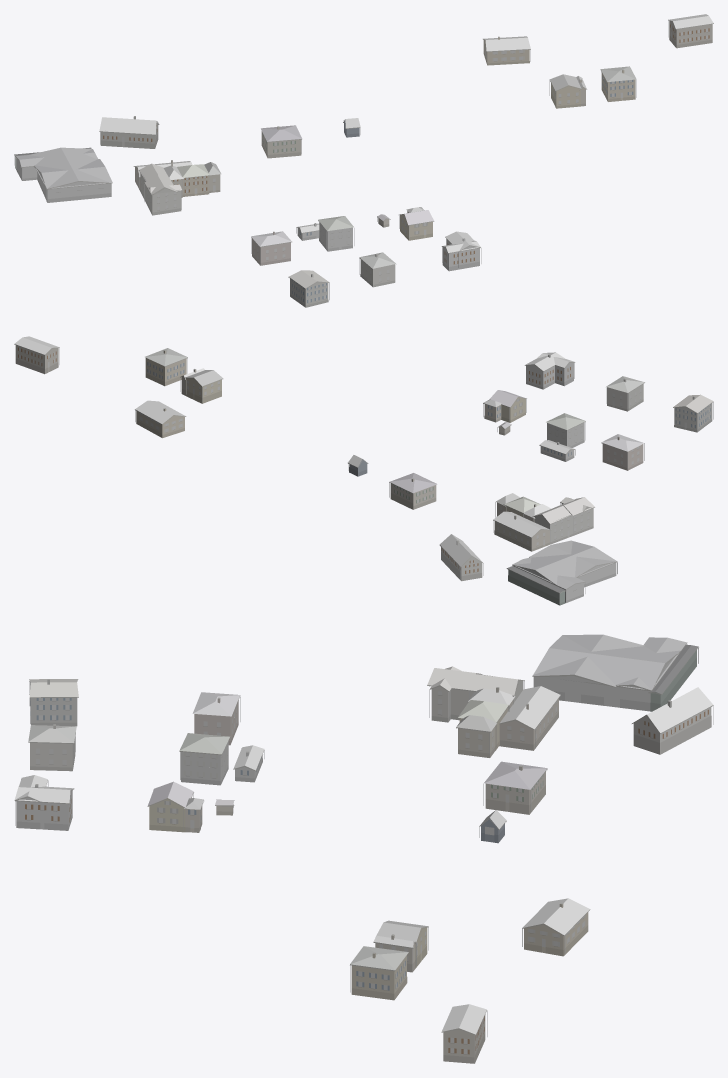
3 views of the same model, one above another, from view 1: azimuth 30°, elevation 25°; view 2: azimuth 150°, elevation 25°; view 3: azimuth 270°, elevation 25° (orthographic). The views are drawn at different scales.
Parts seen in each view (by area): view 1: bld; view 2: bld; view 3: bld.
Part boxes in pixels (box(x1,y1,x2,y2)): bld: box(14, 14, 713, 307); bld: box(14, 336, 713, 605); bld: box(14, 634, 713, 1063).
Size of the model in its own units: 263 by 23.77 by 168.
